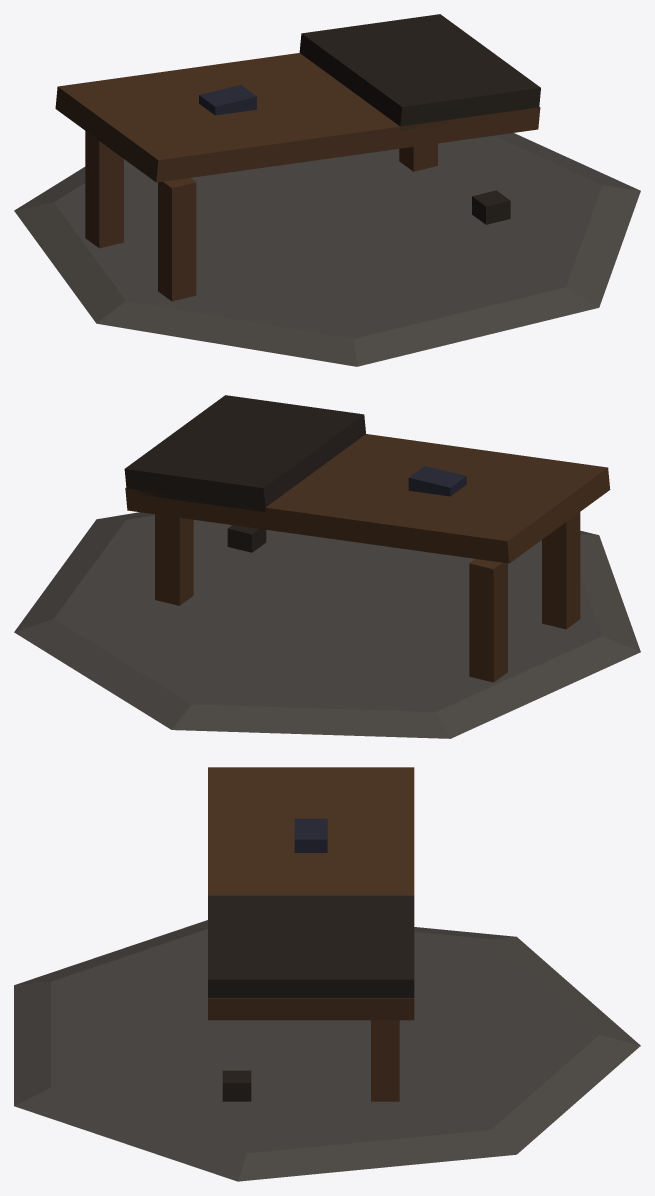
Rendered from prop_burnt_desk.glb.
The picture shows the model from 3 angles, top to bottom: view 1: azimuth 30°, elevation 25°; view 2: azimuth 150°, elevation 25°; view 3: azimuth 270°, elevation 25°; orthographic projection. The views are drawn at different scales.
Parts seen in each view (by area): view 1: prop_burnt_desk; view 2: prop_burnt_desk; view 3: prop_burnt_desk.
Boxes of the visible parts, left/top/right/bottom form: prop_burnt_desk: left=14, top=14, right=640, bottom=366; prop_burnt_desk: left=14, top=395, right=640, bottom=738; prop_burnt_desk: left=14, top=767, right=640, bottom=1181.
Bounding box in the file's own units: 1.56 × 0.4448 × 1.52.
